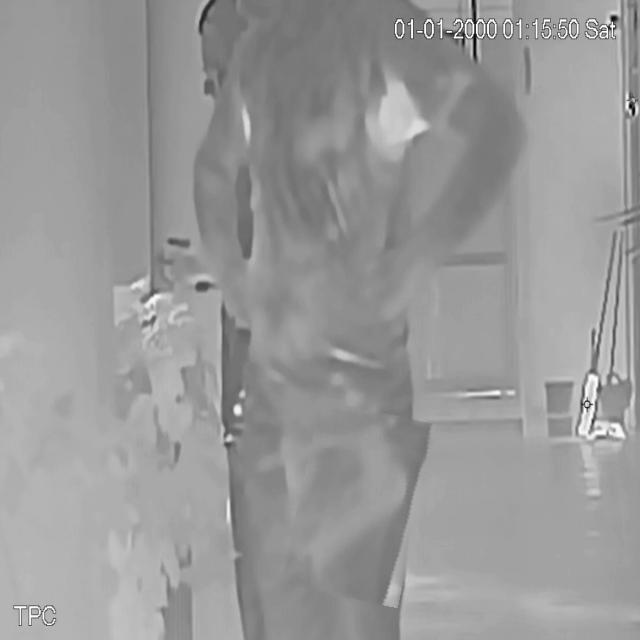Weapon: (290, 405, 427, 603)
